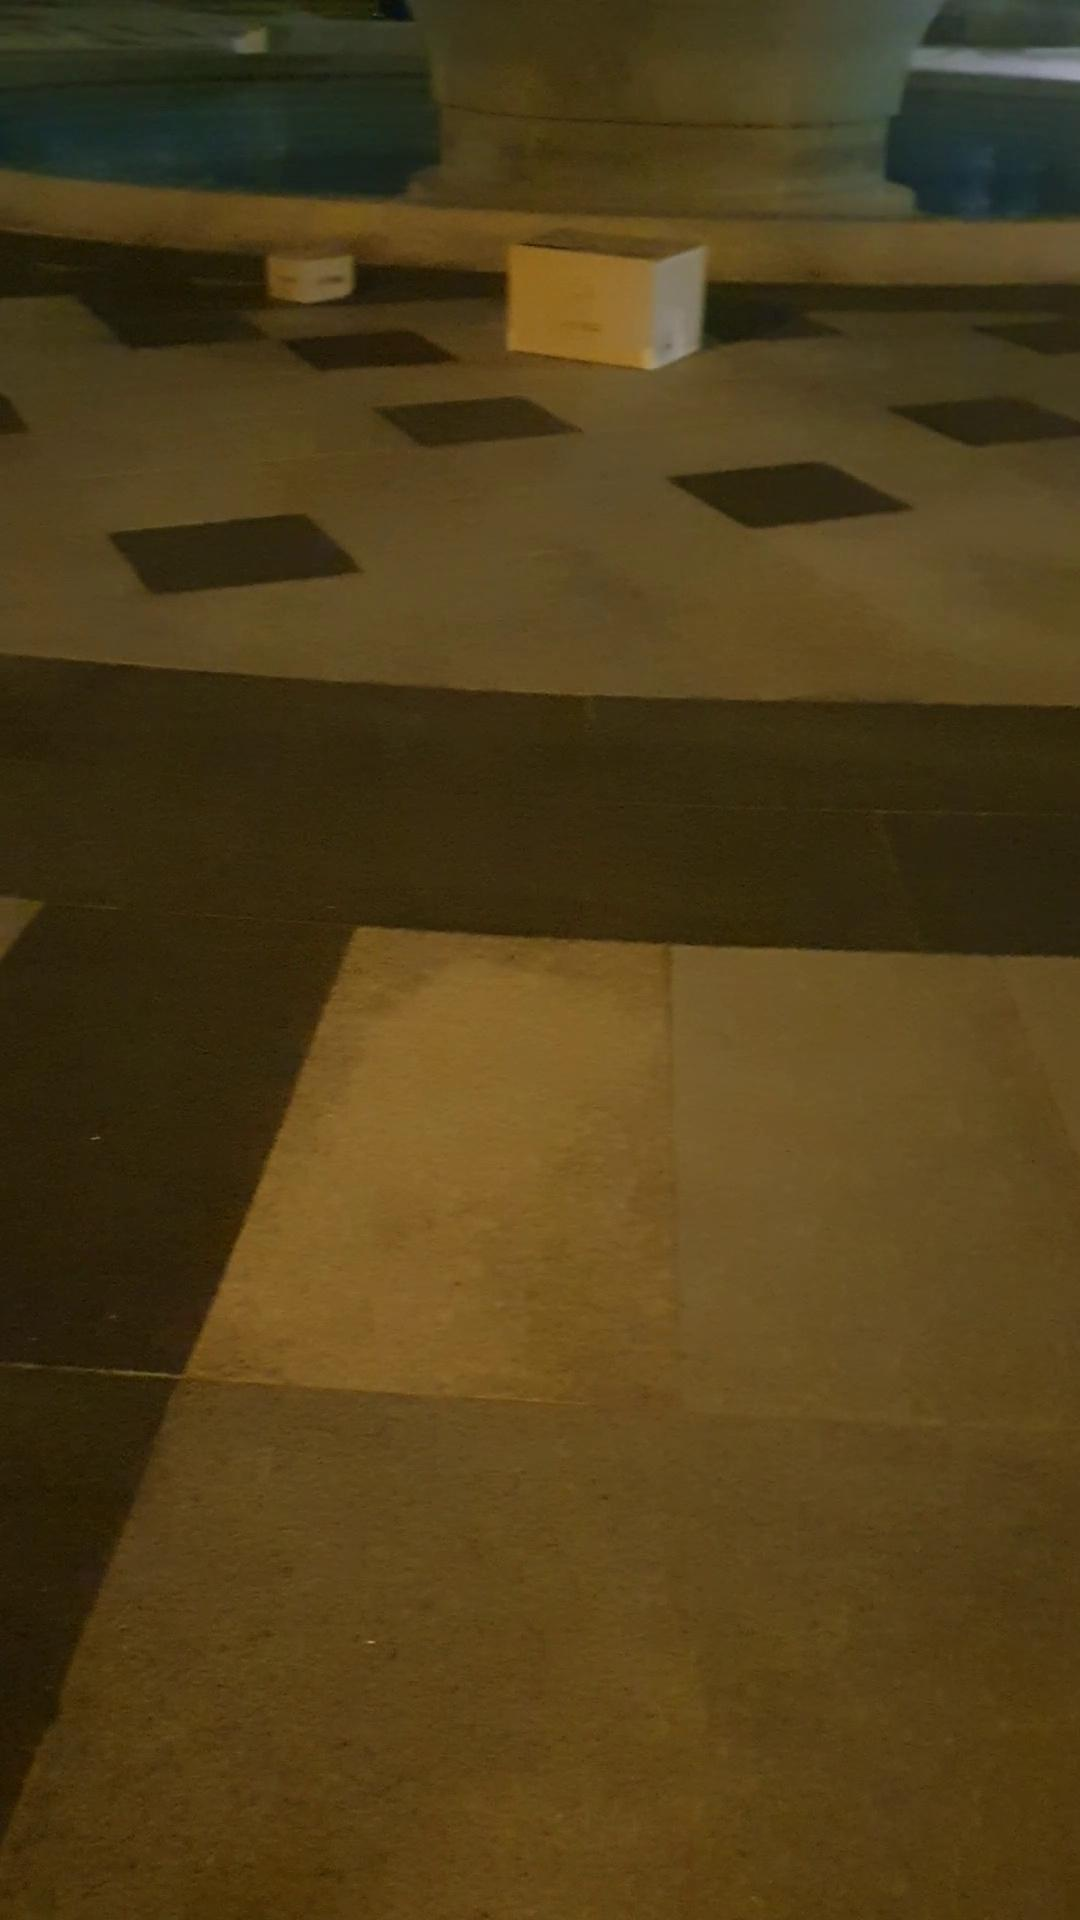Box: (493, 220, 709, 375), (258, 229, 367, 314)
